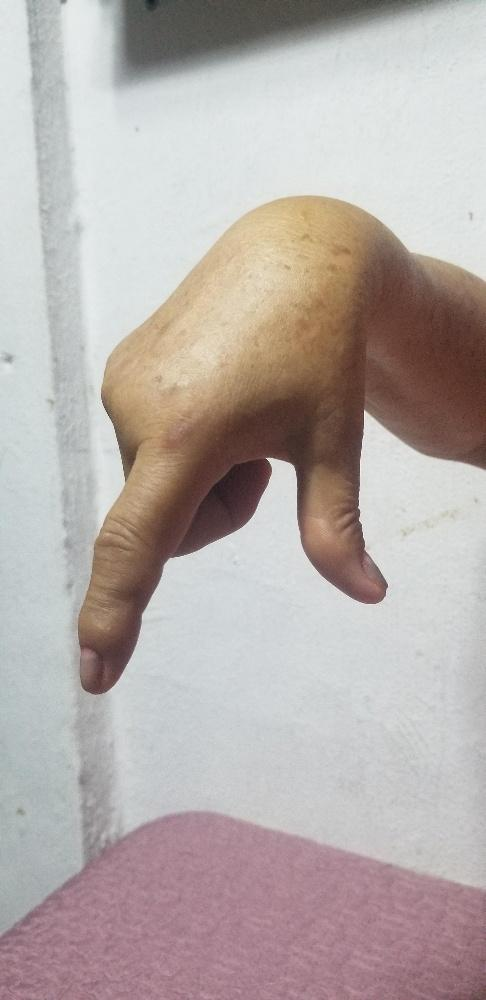q: (72, 247, 392, 697)
